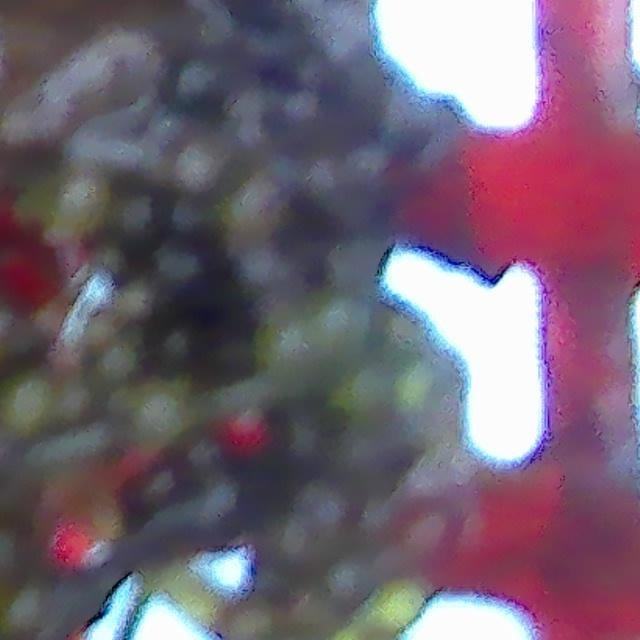SeaGrape: (313, 295, 374, 356)
